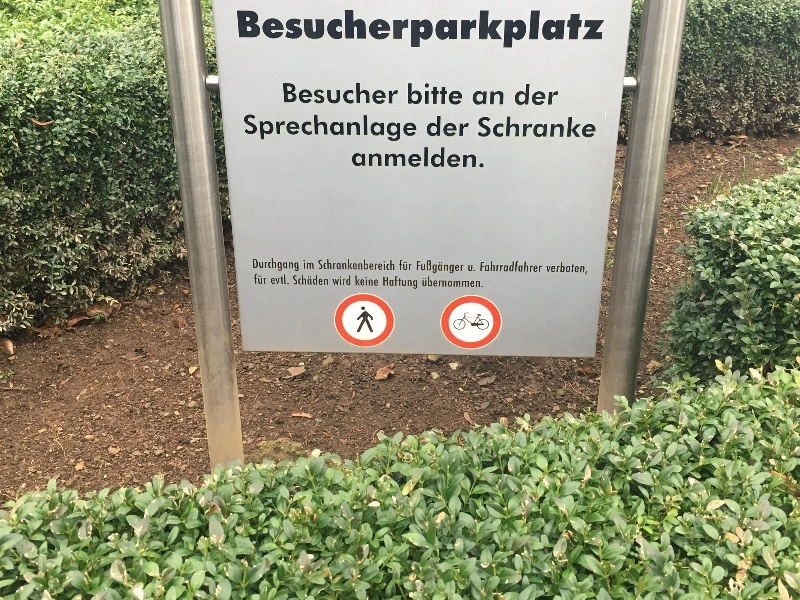text: (241, 11, 256, 51), (257, 11, 272, 51), (273, 11, 288, 51), (289, 11, 304, 51), (305, 11, 320, 51), (321, 11, 336, 51), (337, 11, 352, 51), (353, 11, 368, 51), (369, 11, 384, 51), (385, 11, 400, 51), (401, 11, 416, 51), (417, 11, 432, 51), (433, 11, 448, 51), (449, 11, 464, 51), (465, 11, 480, 51), (481, 11, 496, 51), (497, 11, 512, 51), (513, 11, 528, 51), (529, 11, 544, 51), (545, 11, 560, 51), (561, 11, 576, 51), (577, 11, 592, 51), (593, 11, 605, 51), (401, 115, 417, 144), (257, 115, 272, 144), (273, 115, 288, 144), (289, 115, 304, 144), (305, 115, 320, 144), (321, 115, 336, 144), (337, 115, 352, 144), (353, 115, 368, 144), (369, 115, 384, 144), (385, 115, 400, 144), (385, 83, 401, 106), (529, 84, 544, 108), (545, 84, 560, 108), (353, 147, 368, 171), (369, 147, 384, 171), (385, 147, 400, 171), (401, 147, 416, 171), (417, 147, 432, 171), (433, 147, 448, 171), (449, 147, 464, 171), (465, 147, 480, 171), (244, 115, 256, 144), (289, 83, 304, 106), (305, 83, 320, 106), (321, 83, 336, 106), (337, 83, 352, 106), (353, 83, 368, 106), (369, 83, 384, 106), (417, 83, 432, 106), (433, 83, 448, 106), (433, 116, 448, 139), (449, 116, 464, 139), (481, 117, 496, 139), (497, 117, 512, 139), (513, 117, 528, 139), (529, 117, 544, 139), (545, 117, 560, 139), (561, 117, 576, 139), (577, 117, 592, 139), (449, 83, 463, 106), (481, 90, 496, 108), (517, 84, 528, 108), (257, 258, 272, 272), (273, 258, 288, 272), (417, 261, 432, 275), (433, 261, 448, 275), (449, 261, 464, 275), (561, 262, 576, 276), (385, 276, 400, 290), (401, 276, 416, 290), (546, 262, 560, 276), (481, 261, 496, 274), (497, 261, 512, 274), (513, 261, 528, 274), (433, 276, 448, 289), (449, 276, 464, 289), (465, 276, 480, 289), (273, 274, 289, 286), (529, 261, 543, 274), (321, 259, 336, 271), (337, 259, 352, 271), (353, 259, 368, 271), (369, 259, 384, 271), (305, 275, 320, 286), (497, 90, 506, 108), (409, 83, 416, 106), (465, 116, 472, 139), (577, 262, 588, 276), (337, 275, 351, 286), (472, 90, 480, 108), (355, 275, 368, 286), (289, 258, 299, 272), (282, 83, 288, 106), (426, 116, 432, 139), (593, 117, 599, 139), (385, 259, 396, 271), (401, 260, 413, 271), (293, 275, 304, 286), (481, 147, 486, 171), (423, 276, 432, 289), (257, 274, 267, 285), (369, 275, 379, 286), (468, 264, 480, 273), (305, 260, 314, 271), (321, 275, 329, 286), (238, 11, 240, 51), (477, 117, 480, 139), (252, 258, 256, 272), (331, 275, 336, 286), (481, 276, 483, 289), (561, 84, 562, 108), (351, 147, 352, 171), (318, 259, 320, 271), (270, 274, 272, 286), (254, 274, 256, 285), (383, 276, 384, 290), (417, 276, 418, 290), (303, 260, 304, 271), (399, 260, 400, 271)
